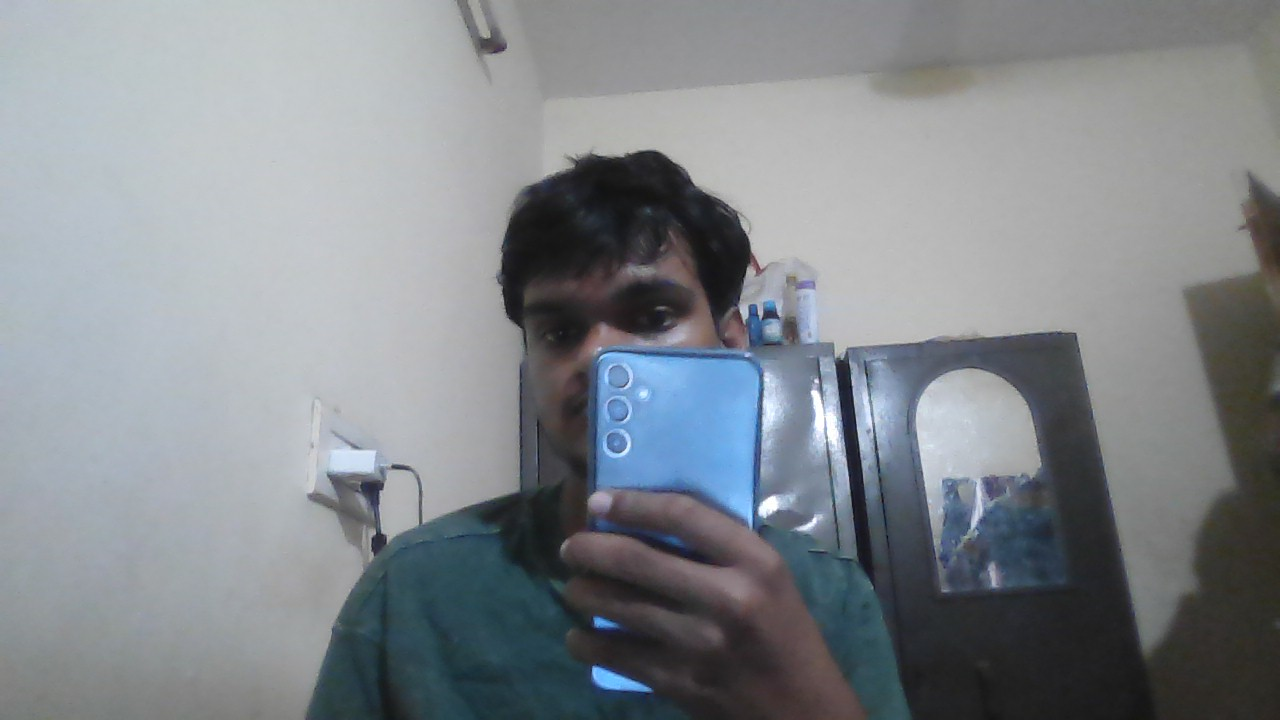phone: (589, 344, 767, 496)
